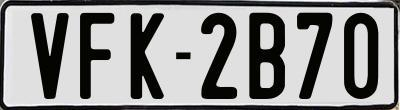0: (343, 12, 382, 104)
2: (200, 10, 237, 101)
7: (296, 13, 335, 100)
B: (249, 13, 289, 103)
F: (77, 10, 114, 100)
K: (130, 13, 165, 101)
V: (30, 12, 70, 98)
